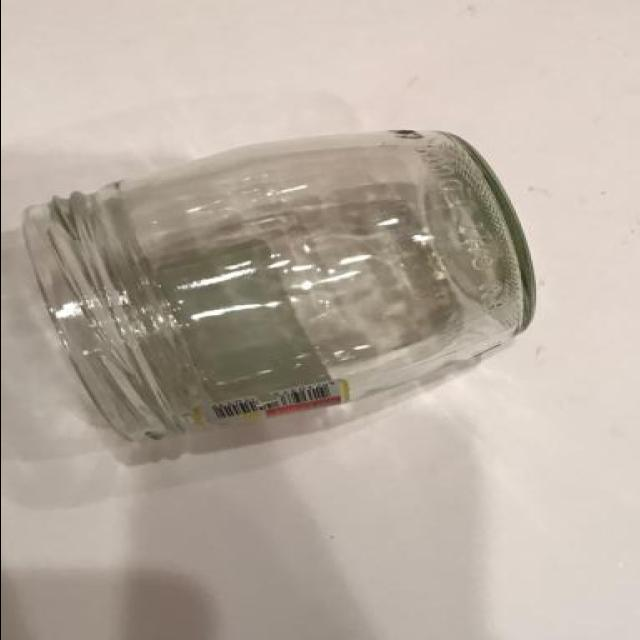Glass Bottle: (14, 126, 538, 445)
